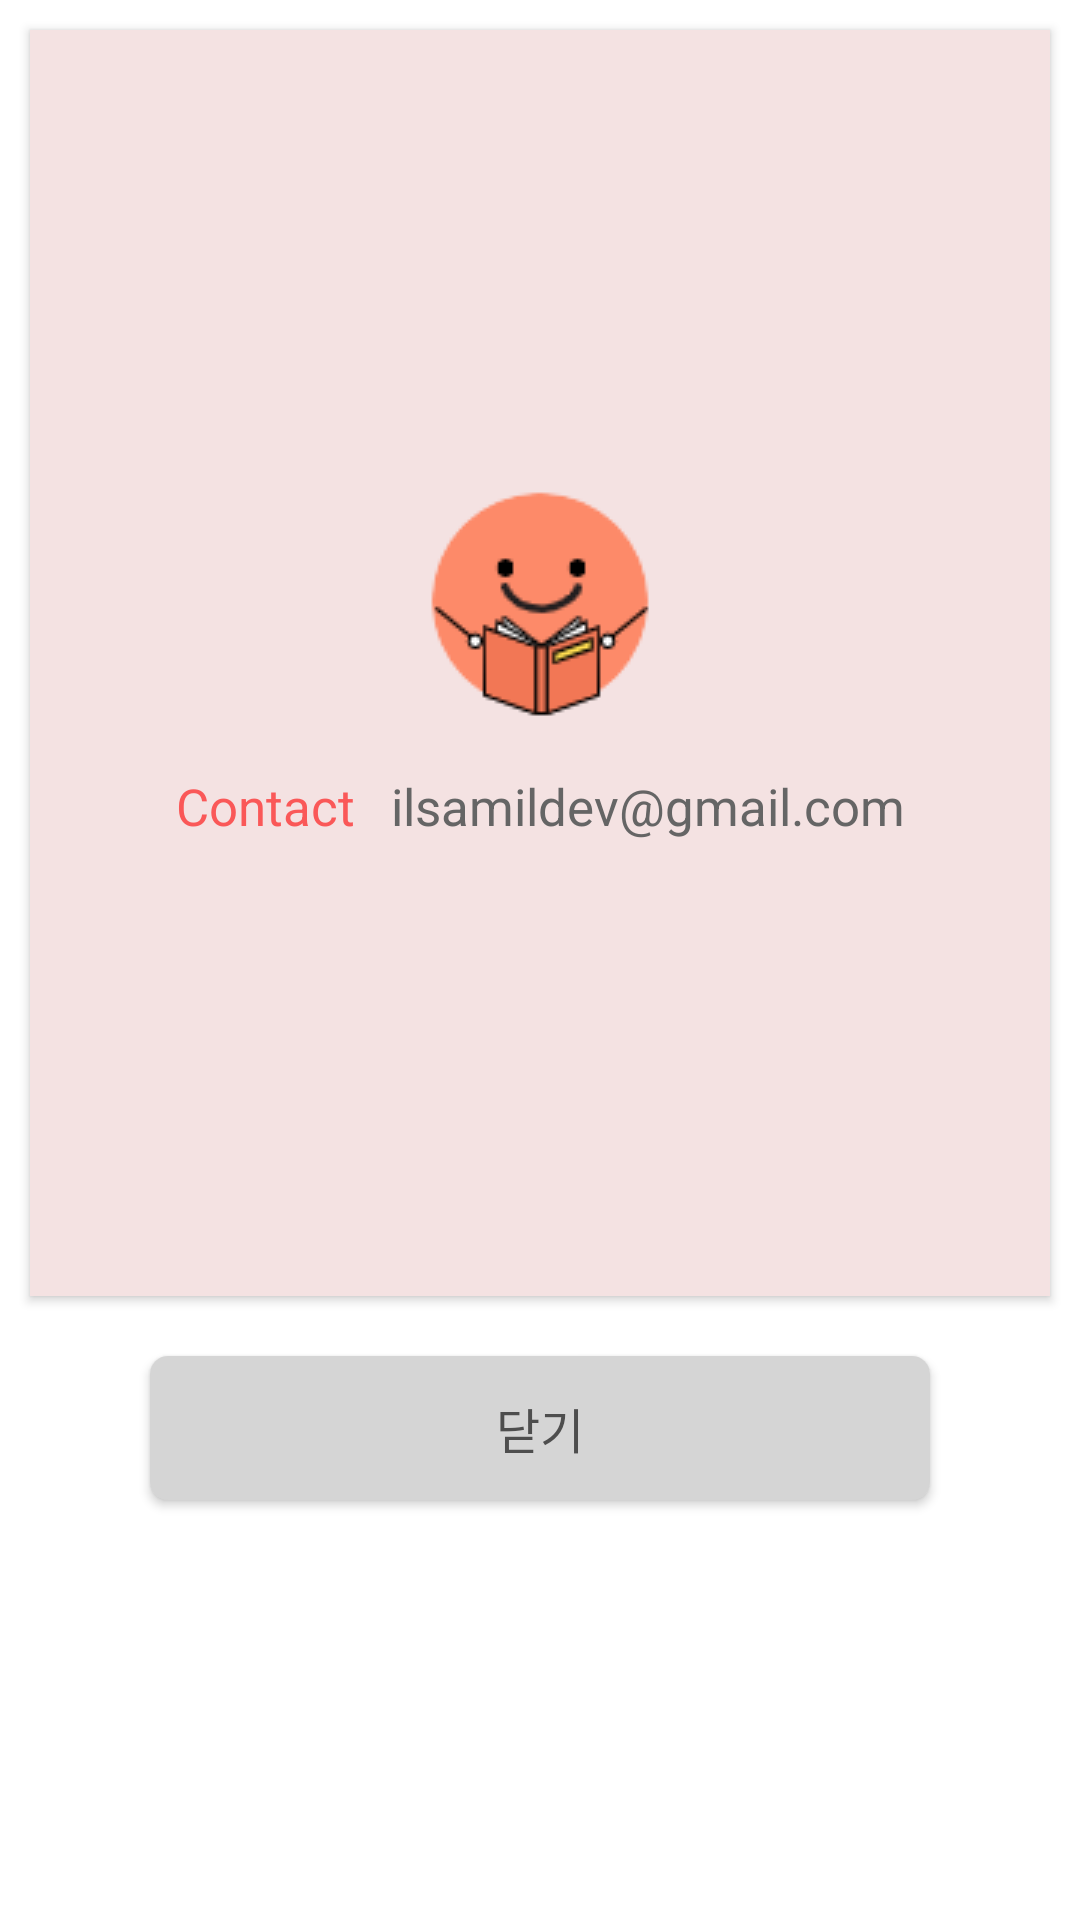

Screen size 1080px x 1920px. Icon name, then its box in pixels as (x1, y1, x2, y2):
all reading: (431, 492, 649, 716)
